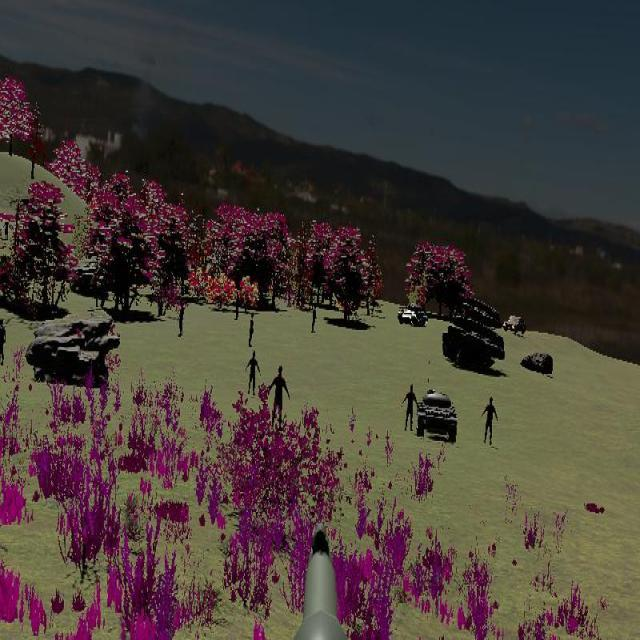Tank: (416, 386, 458, 443)
